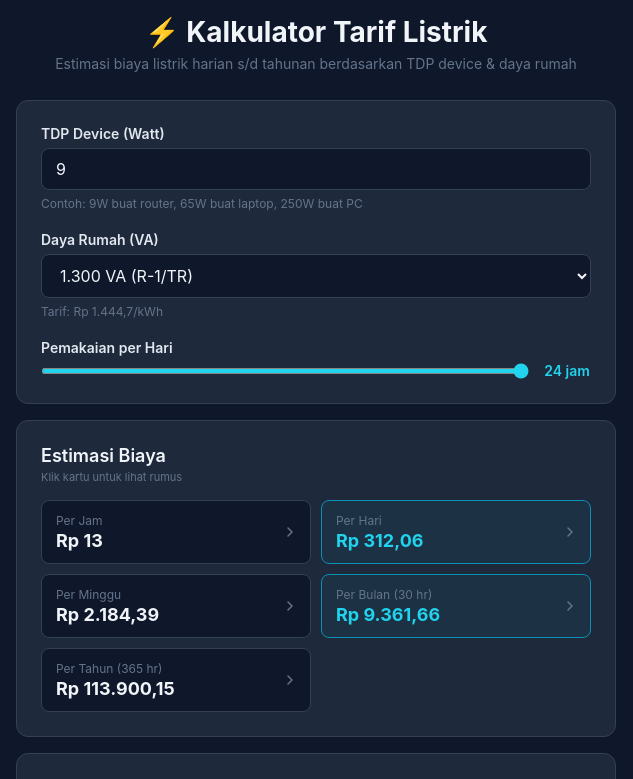
Test: App › changes hours slider and shows updated value
Set the slider labelled "Pemakaian per Hari" to "12" at (275,370), box x1=41 y1=368 x2=529 y2=374
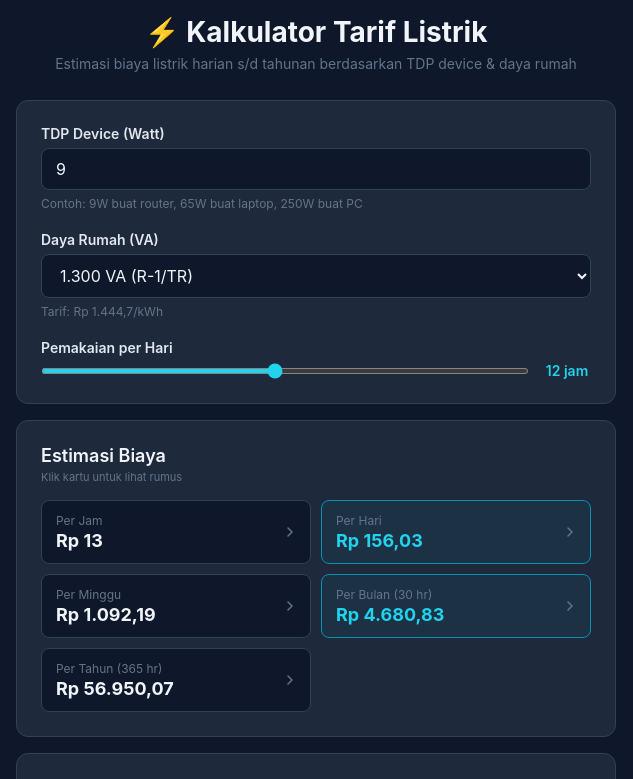
Result: the text "12 jam" is shown at x1=543 y1=362 x2=591 y2=379
